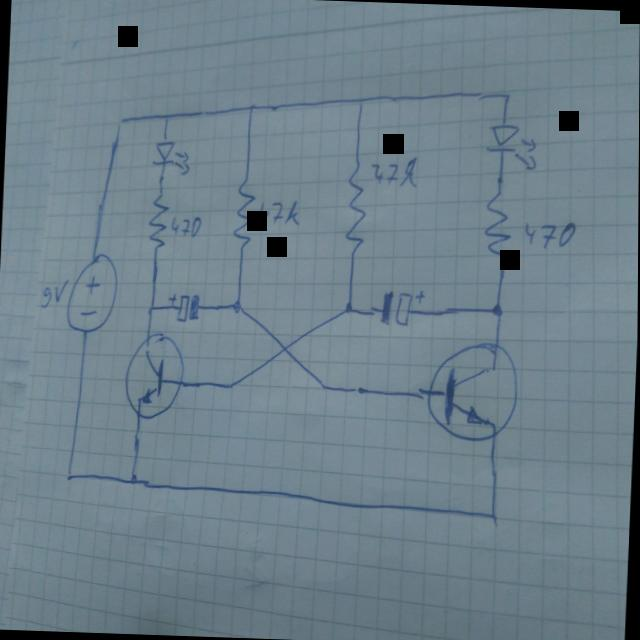capacitor: (378, 284, 428, 332), (166, 290, 202, 323)
crossover: (275, 336, 295, 360)
diode: (484, 120, 539, 174), (152, 138, 191, 178)
junction: (485, 509, 501, 528), (489, 300, 504, 320), (128, 470, 141, 488), (353, 94, 367, 110), (232, 296, 243, 314), (225, 376, 236, 394), (244, 101, 258, 115), (161, 110, 174, 124), (342, 299, 354, 314), (145, 300, 156, 316), (64, 468, 76, 482), (500, 90, 511, 105), (318, 379, 329, 393), (116, 116, 126, 129)
resistor: (480, 184, 516, 267), (342, 158, 368, 254), (231, 176, 258, 252), (146, 190, 172, 256)
source: (65, 248, 121, 338)
text: (369, 152, 421, 192), (254, 195, 304, 232), (525, 218, 577, 252), (37, 279, 67, 310), (170, 214, 202, 238)
transistor: (424, 340, 521, 444), (123, 330, 187, 421)
